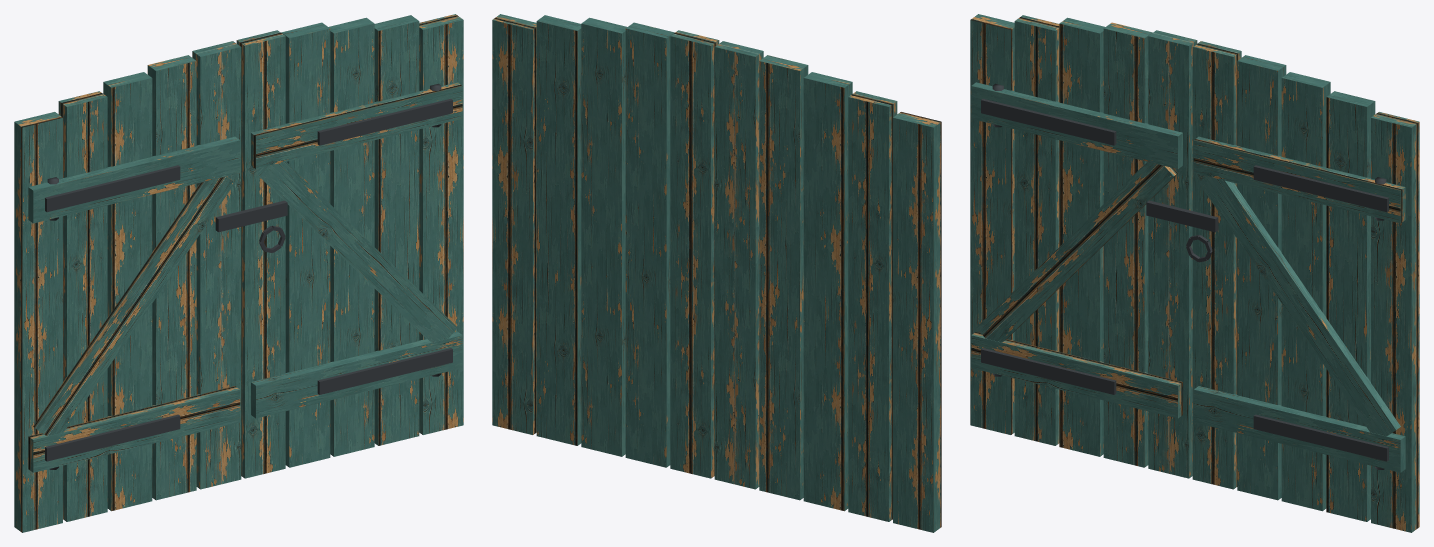
The picture shows the model from 3 angles, left to right: view 1: azimuth 30°, elevation 25°; view 2: azimuth 150°, elevation 25°; view 3: azimuth 330°, elevation 25°; orthographic projection.
Parts seen in each view (by area): view 1: seaside_shutter, house_paint; view 2: seaside_shutter; view 3: seaside_shutter, house_paint.
Boxes of the visible parts, left/top/right/bottom form: seaside_shutter: left=14, top=14, right=463, bottom=532; house_paint: left=45, top=83, right=452, bottom=469; seaside_shutter: left=492, top=14, right=941, bottom=532; seaside_shutter: left=970, top=14, right=1419, bottom=532; house_paint: left=981, top=83, right=1388, bottom=469.
Bounding box in the file's own units: 1.41 × 1.32 × 0.1075.
2 materials, 2 textured.
